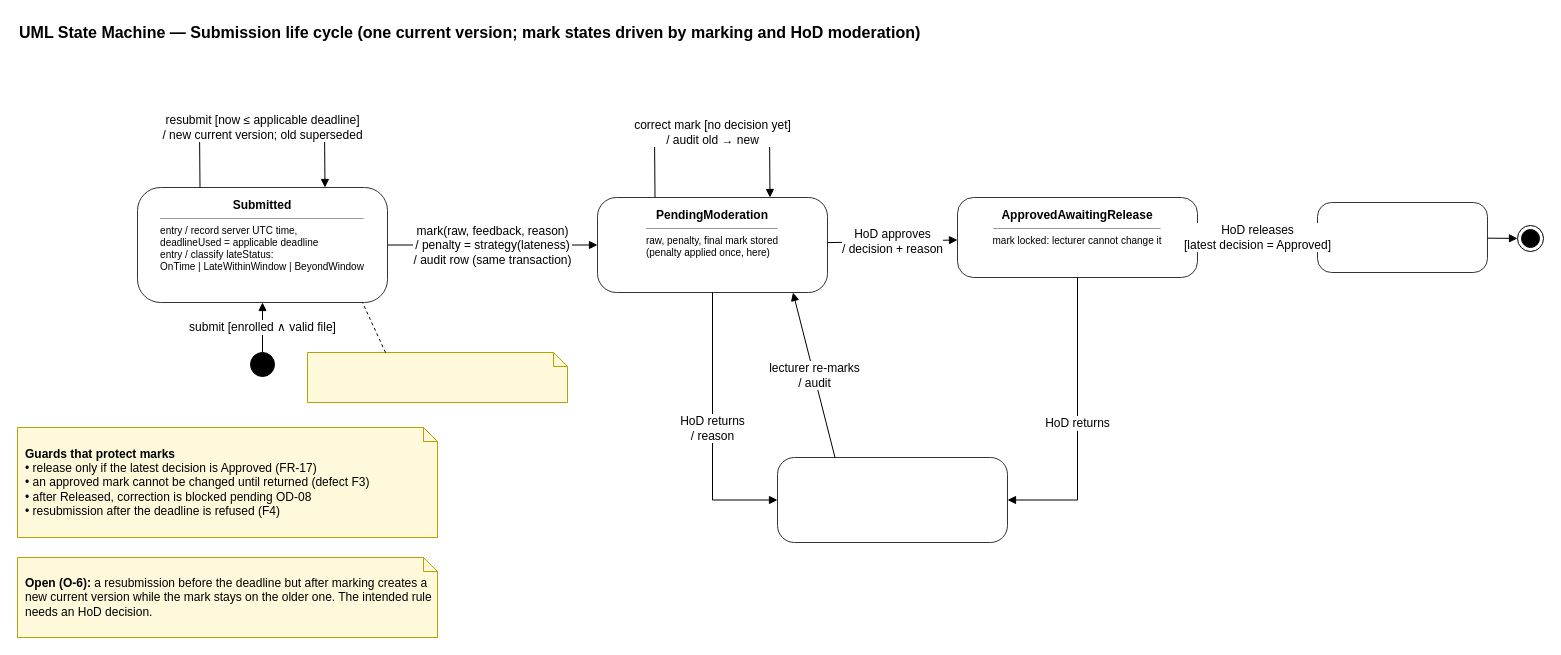
This 1561x655 diagram has some shape labels left out. Here are the shapes that lost their labels. From the top down, the centre of each, then its label:
At [1402,237]: "Released visible to the student".
At [437,377]: "BeyondWindow work is kept (not rejected); marking gives final mark 0 (OD-05).".
At [892,499]: "ReturnedForCorrection HoD reason recorded; back in lecturer queue".
